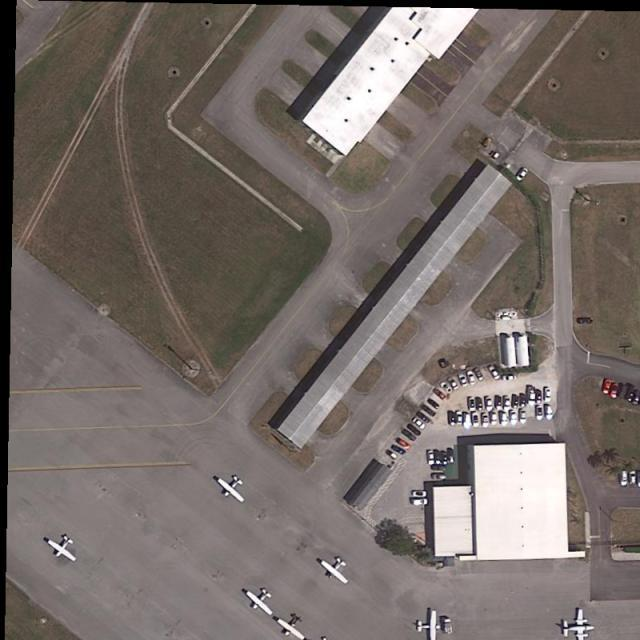vehicle: (514, 166, 531, 184), (401, 427, 418, 443), (395, 436, 412, 451), (487, 365, 502, 382), (406, 422, 422, 437), (416, 410, 432, 425), (422, 403, 438, 417), (433, 386, 447, 402), (390, 443, 407, 456), (626, 387, 638, 404), (610, 382, 622, 399), (412, 416, 426, 430), (385, 449, 400, 462), (474, 367, 486, 383), (602, 378, 614, 394), (467, 396, 478, 413), (619, 384, 630, 401), (440, 381, 454, 394), (426, 398, 441, 410), (466, 370, 477, 386), (543, 386, 552, 404), (529, 388, 538, 406), (463, 411, 472, 429), (535, 405, 545, 421), (511, 394, 521, 410), (442, 618, 452, 634), (449, 378, 460, 392), (458, 374, 469, 388), (448, 411, 457, 428), (431, 473, 448, 482), (620, 470, 629, 486), (481, 413, 490, 429), (494, 395, 503, 411), (411, 498, 427, 507), (503, 395, 511, 412), (500, 412, 509, 427), (509, 411, 518, 426), (412, 490, 427, 499), (630, 470, 638, 486), (434, 450, 442, 466), (472, 414, 481, 428), (485, 398, 494, 412), (432, 464, 446, 473), (503, 374, 518, 382), (427, 450, 435, 465), (633, 389, 640, 406), (546, 406, 553, 423), (476, 398, 484, 412), (520, 409, 527, 425), (520, 394, 528, 408), (448, 450, 455, 466), (577, 318, 593, 325), (456, 412, 463, 427), (491, 412, 498, 427), (537, 390, 544, 405), (442, 451, 448, 466), (638, 470, 640, 487)
